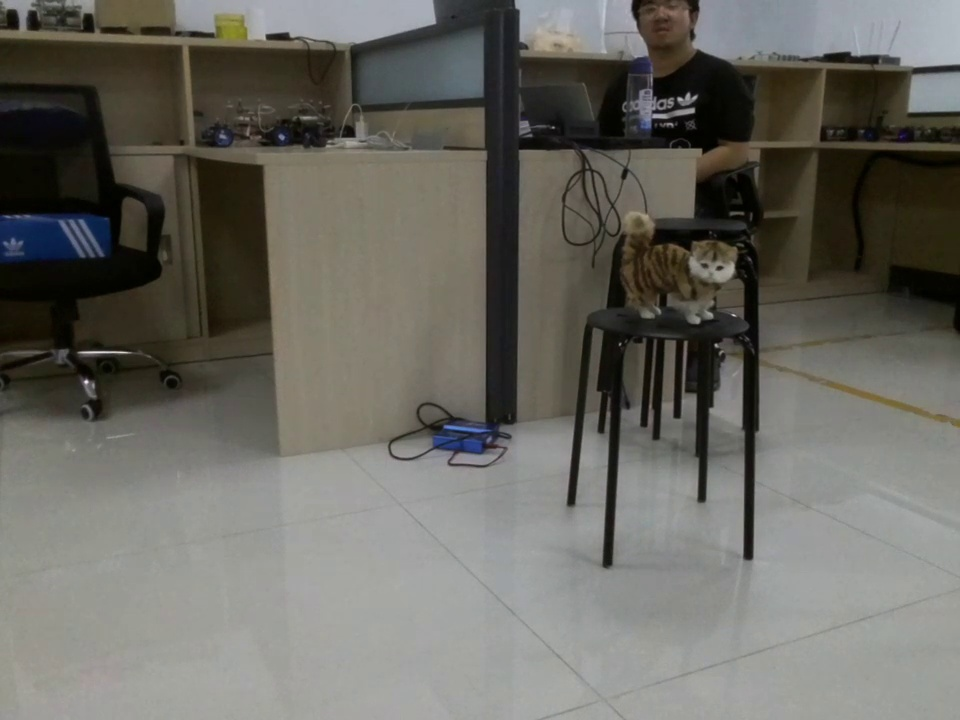cat: (617, 212, 744, 330)
